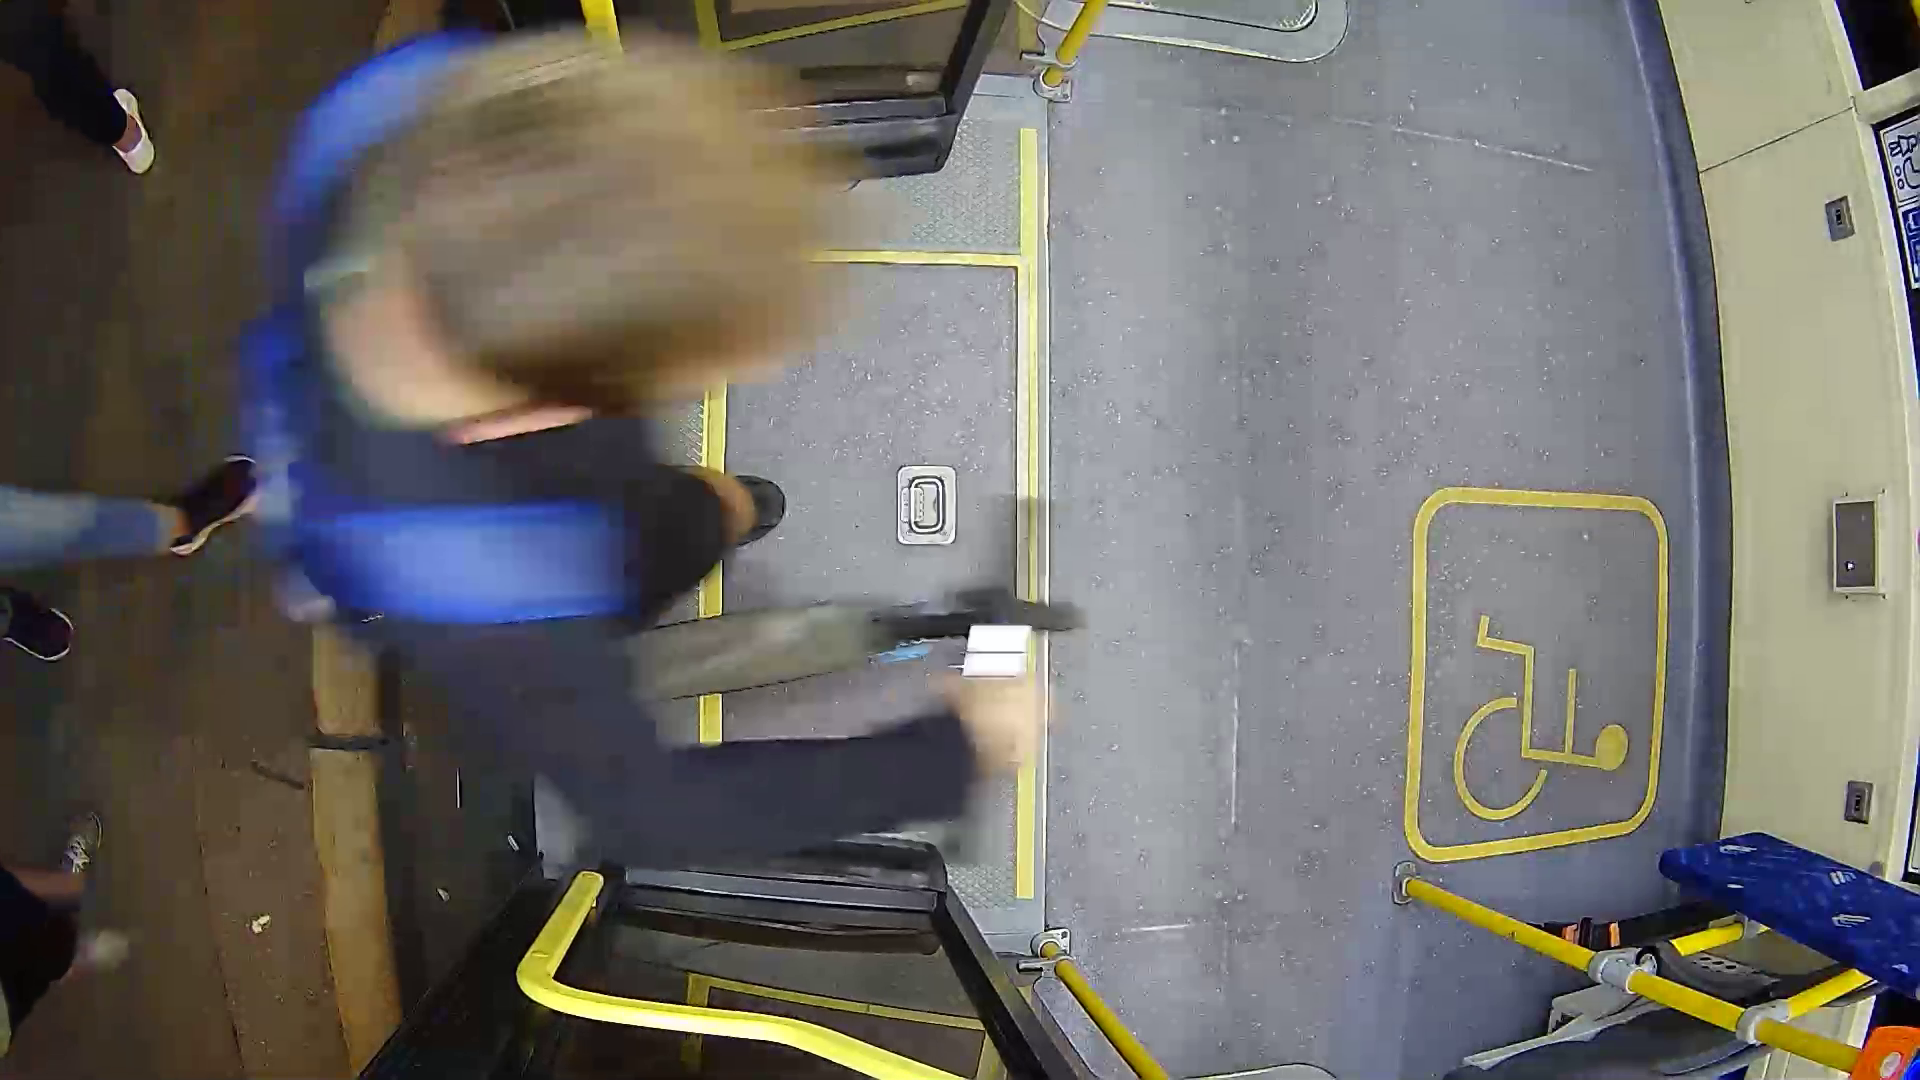person: (261, 38, 1088, 927)
